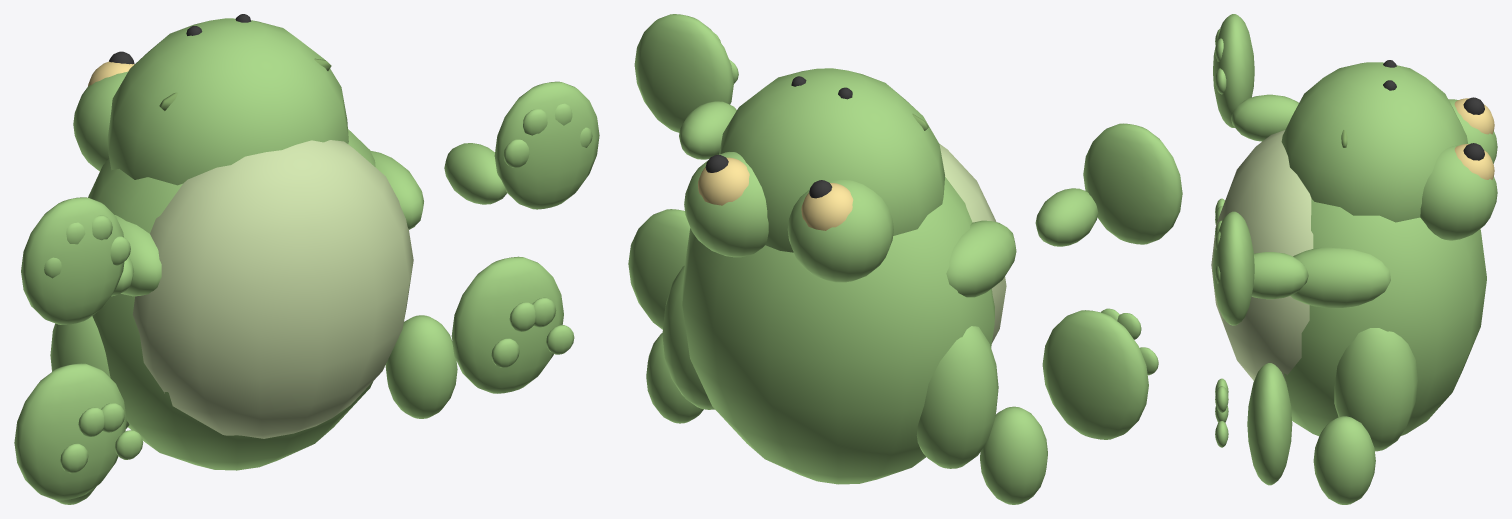
Rendered from char__frog__v01.glb.
3 renders of one model, left to right at view 1: azimuth 30°, elevation 25°; view 2: azimuth 150°, elevation 25°; view 3: azimuth 270°, elevation 25°, orthographic. The views are drawn at different scales.
Visible parts, largest first — view 1: belly, head, body, foot_BL, foot_BR, foot_FL, foot_FR, leg_BR_calf, eye_dome_L, leg_FR_fore, leg_BL_thigh, leg_FL_upper (+5 smaller); view 2: body, head, foot_BL, foot_FL, foot_FR, leg_BL_thigh, eye_dome_L, leg_BL_calf, eye_dome_R, foot_BR, leg_FL_upper, leg_BR_thigh (+6 smaller); view 3: body, head, belly, leg_BR_thigh, eye_dome_R, leg_FR_upper, foot_BR, leg_BR_calf, foot_FR, foot_FL, leg_FL_fore, leg_FR_fore (+3 smaller).
Part boxes in pixels (<box>): belly: <box>132,140,413,438</box>; head: <box>107,18,348,185</box>; body: <box>88,129,375,470</box>; foot_BL: <box>14,363,126,500</box>; foot_BR: <box>451,256,563,393</box>; foot_FL: <box>21,197,124,324</box>; foot_FR: <box>494,81,599,209</box>; leg_BR_calf: <box>385,315,457,418</box>; eye_dome_L: <box>73,71,127,171</box>; leg_FR_fore: <box>444,143,506,204</box>; leg_BL_thigh: <box>50,316,129,428</box>; leg_FL_upper: <box>115,215,161,296</box>; body: <box>682,177,994,484</box>; head: <box>719,68,944,252</box>; foot_BL: <box>1042,310,1148,439</box>; foot_FL: <box>1083,123,1182,244</box>; foot_FR: <box>634,14,733,132</box>; leg_BL_thigh: <box>916,326,998,468</box>; eye_dome_L: <box>787,180,893,282</box>; leg_BL_calf: <box>980,406,1047,504</box>; eye_dome_R: <box>684,152,768,257</box>; foot_BR: <box>628,209,690,329</box>; leg_FL_upper: <box>946,220,1016,297</box>; leg_BR_thigh: <box>662,265,714,409</box>; body: <box>1284,198,1486,435</box>; head: <box>1281,62,1467,222</box>; belly: <box>1211,130,1313,384</box>; leg_BR_thigh: <box>1334,328,1417,451</box>; eye_dome_R: <box>1420,145,1497,240</box>; leg_FR_upper: <box>1290,247,1390,307</box>; foot_BR: <box>1247,363,1292,485</box>; leg_BR_calf: <box>1313,416,1375,504</box>; foot_FR: <box>1213,211,1254,325</box>; foot_FL: <box>1213,14,1254,127</box>; leg_FL_fore: <box>1231,94,1298,141</box>; leg_FR_fore: <box>1251,252,1308,299</box>.
Size of the model in its own units: 1.89 by 1.34 by 0.955.
